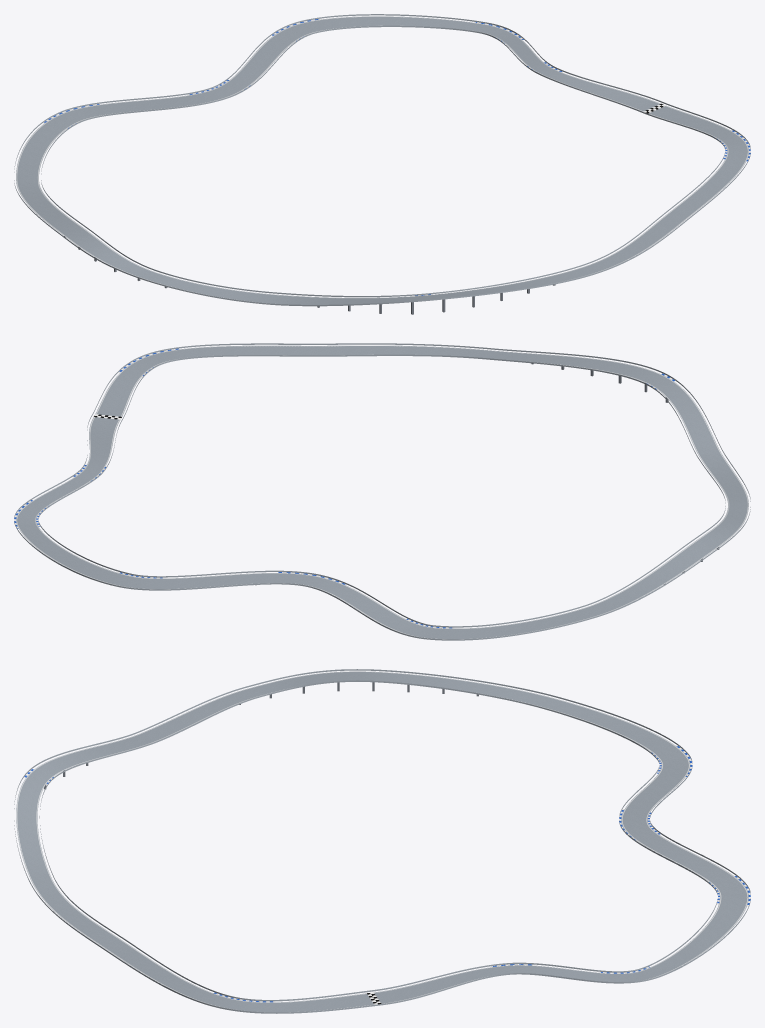
File: track_snow.glb
3 views of the same model, one above another, from view 1: azimuth 30°, elevation 25°; view 2: azimuth 150°, elevation 25°; view 3: azimuth 270°, elevation 25° (orthographic). The views are drawn at different scales.
Parts seen in each view (by area): view 1: Road, Walls, Curbs; view 2: Road, Walls, Curbs; view 3: Road, Walls, Curbs.
Part boxes in pixels (x1,y1,x2,y2): Road: (16,16,748,304); Walls: (14,14,750,306); Curbs: (43,18,750,295); Road: (16,345,748,639); Walls: (14,343,750,640); Curbs: (14,348,674,628); Road: (16,671,748,1012); Walls: (14,669,750,1013); Curbs: (24,745,750,1002).
Size of what is drawn, in the model's own units: 495 by 14.43 by 463.
5 materials, 3 textured.
